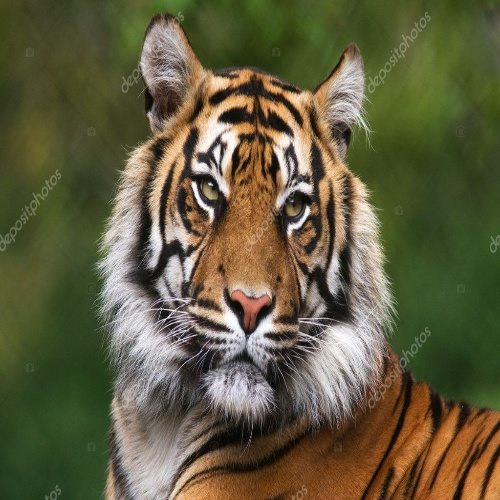tiger: (103, 10, 423, 499)
